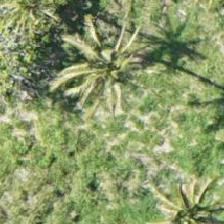coconut_tree: (60, 18, 150, 108), (147, 168, 223, 223)
